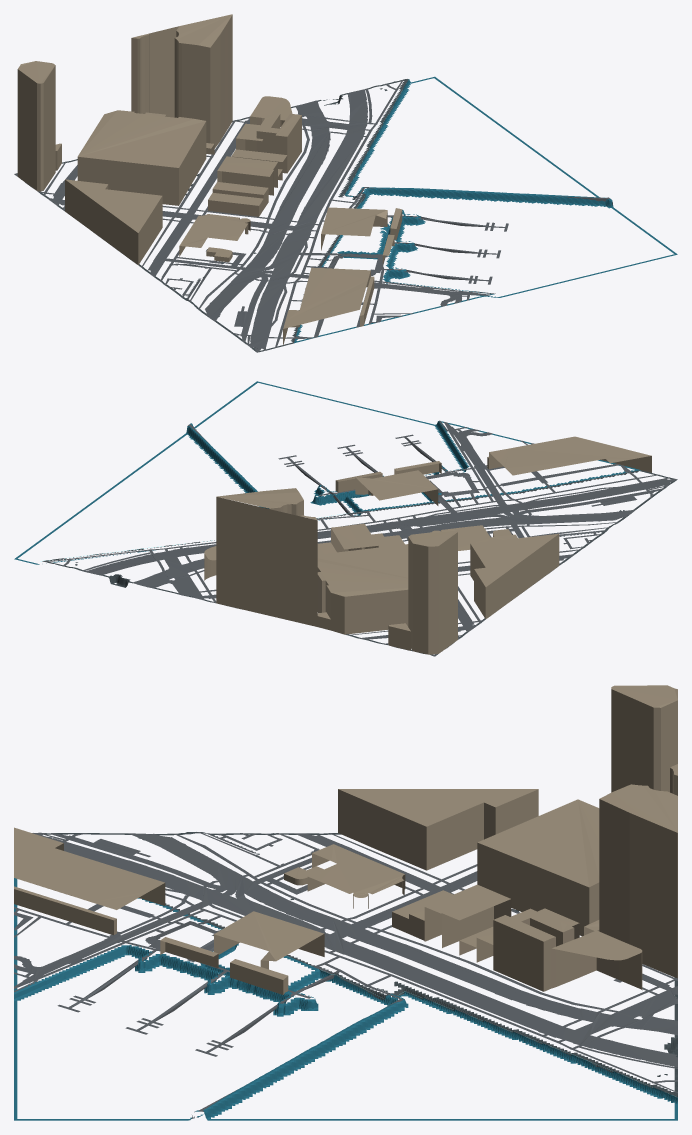
Rendered from epsg26910-1441-10893.lod1-adaptive.glb.
The picture shows the model from 3 angles, top to bottom: view 1: azimuth 30°, elevation 25°; view 2: azimuth 150°, elevation 25°; view 3: azimuth 270°, elevation 25°; orthographic projection. The views are drawn at different scales.
Visible parts, largest first — view 1: epsg26910-1441-10893-lod1-adaptive; view 2: epsg26910-1441-10893-lod1-adaptive; view 3: epsg26910-1441-10893-lod1-adaptive.
Boxes of the visible parts, x1=… form: epsg26910-1441-10893-lod1-adaptive: x1=14, y1=14, x2=677, y2=352; epsg26910-1441-10893-lod1-adaptive: x1=14, y1=381, x2=677, y2=656; epsg26910-1441-10893-lod1-adaptive: x1=14, y1=685, x2=677, y2=1120.
Size of the model in its own units: 384 by 100 by 384.
